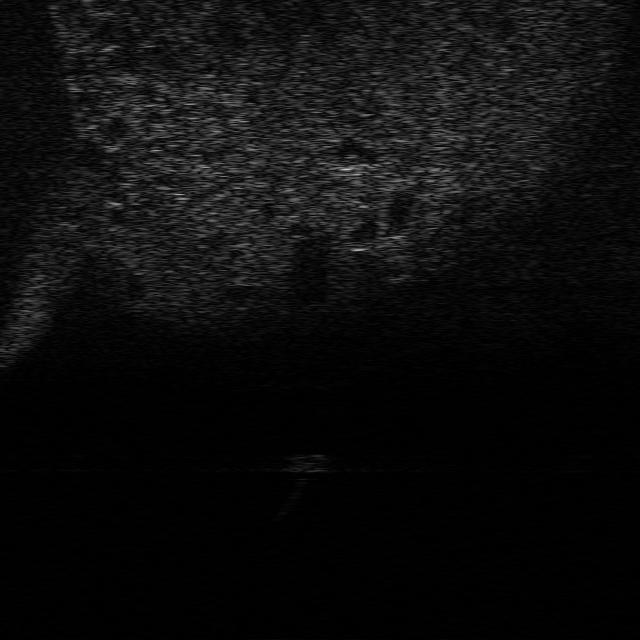cube: (281, 453, 331, 474)
